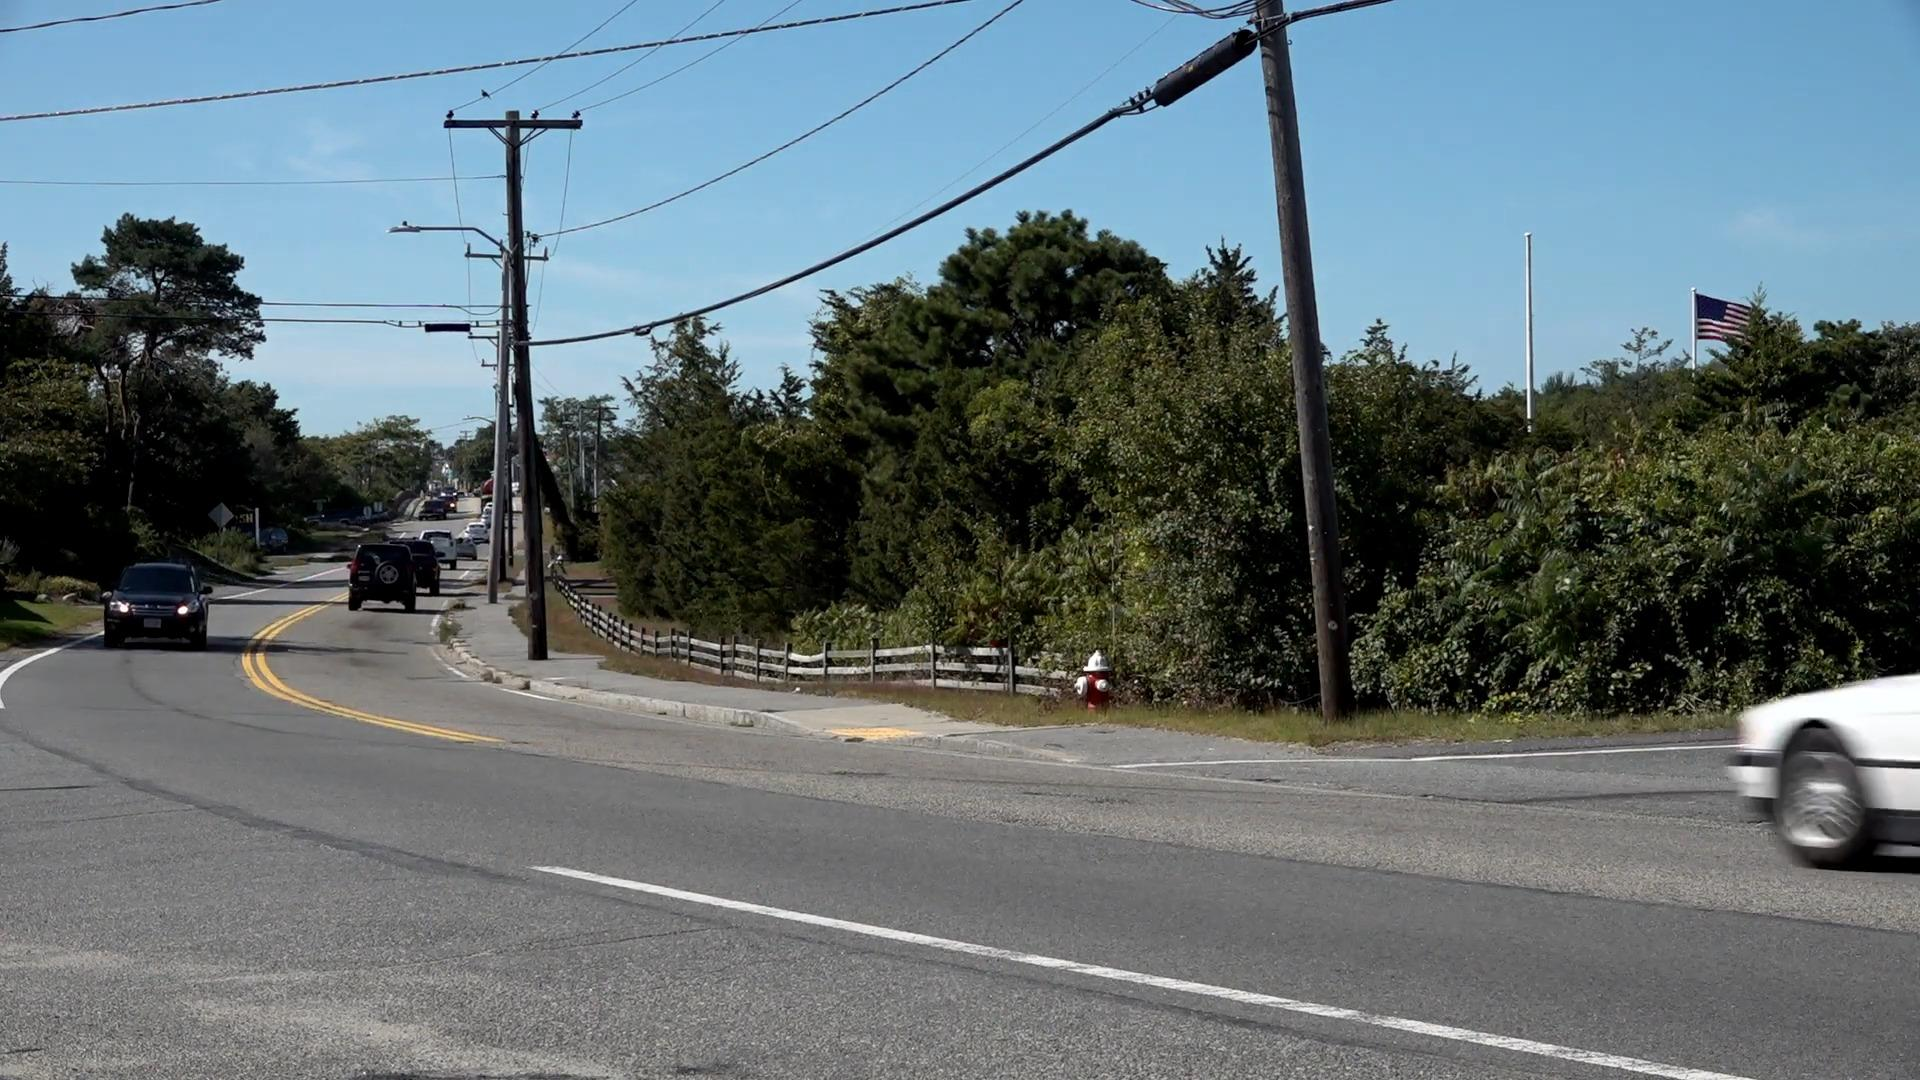sedans: (1734, 630, 1920, 871), (100, 563, 219, 653)
suv: (346, 539, 423, 611)
